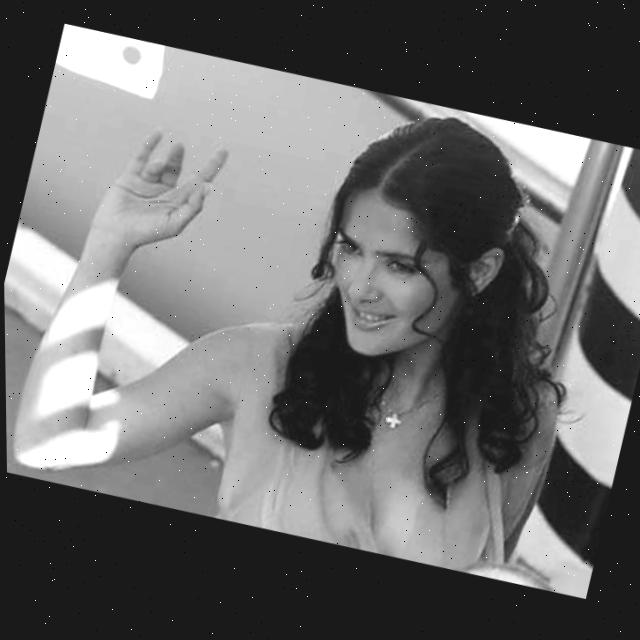face: (287, 168, 524, 384)
